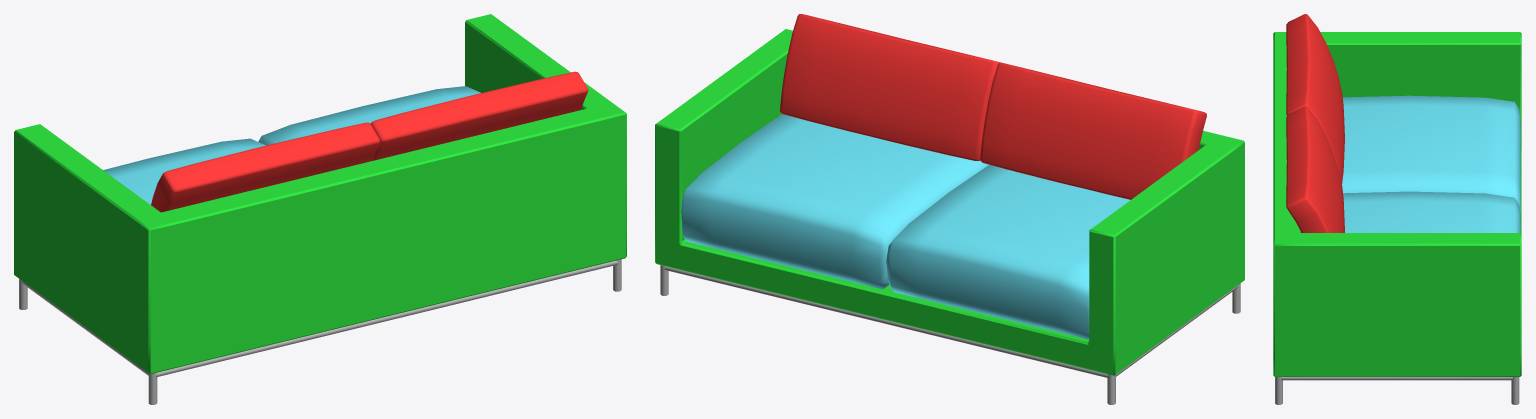
Rendered from sofa_1.FBX.
The picture shows the model from 3 angles, left to right: view 1: azimuth 30°, elevation 25°; view 2: azimuth 150°, elevation 25°; view 3: azimuth 270°, elevation 25°; orthographic projection. The views are drawn at different scales.
Parts seen in each view (by area): view 1: sofa_1; view 2: sofa_1; view 3: sofa_1.
Boxes of the visible parts, bbox=[...] form: sofa_1: bbox=[14, 14, 626, 404]; sofa_1: bbox=[655, 14, 1244, 404]; sofa_1: bbox=[1273, 14, 1521, 404].
Bounding box in the file's own units: 1.52 × 0.6504 × 0.7494.
